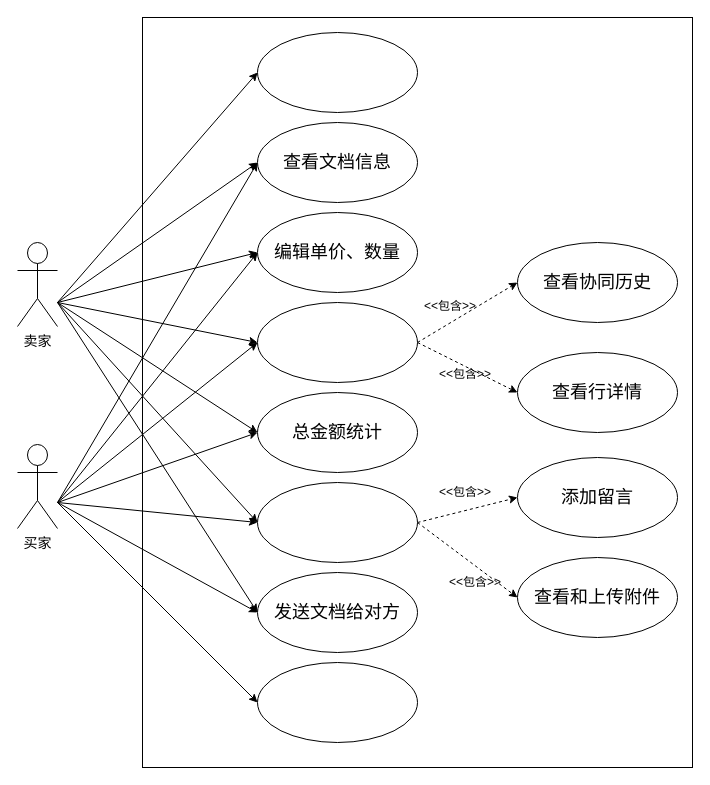
This 710x785 diagram has some shape labels left out. The centre of each missing label's shape, as x and y in pixels:
"对话框留言" goes at (337,522).
"开具无争议行" goes at (337,72).
"拒绝形式发票" goes at (337,702).
"查看行信息" goes at (337,342).
